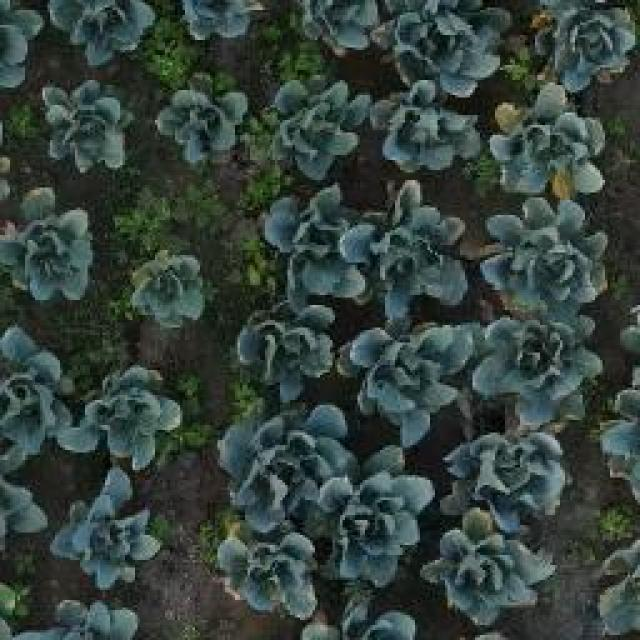cabbage: (488, 82, 600, 200), (360, 184, 466, 308), (348, 325, 473, 424), (225, 412, 342, 512), (490, 208, 600, 308), (258, 194, 367, 292), (484, 320, 590, 414), (319, 471, 416, 573), (451, 429, 562, 516), (431, 532, 544, 617), (64, 493, 166, 577), (270, 82, 364, 172), (237, 303, 331, 392), (378, 89, 477, 173), (383, 0, 491, 73), (9, 197, 90, 287), (88, 375, 178, 455), (225, 529, 316, 604), (47, 91, 130, 162), (0, 352, 63, 439), (164, 84, 242, 154), (130, 254, 208, 323), (557, 6, 628, 68)
